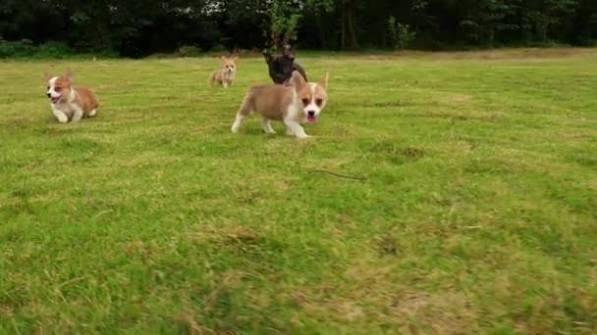adult_dog: (262, 42, 309, 91)
puppy-dog: (230, 69, 330, 139), (45, 71, 101, 125), (209, 49, 239, 89)
